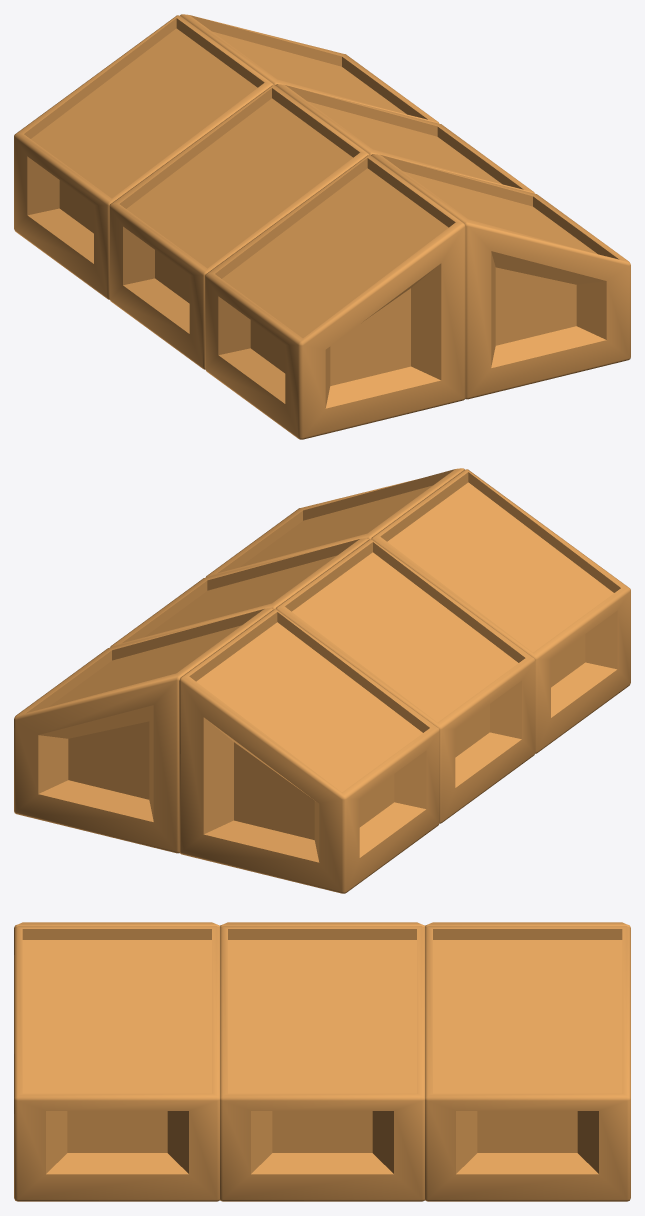
Rendered from RepartoFrutta.fbx.
3 views of the same model, one above another, from view 1: azimuth 30°, elevation 25°; view 2: azimuth 150°, elevation 25°; view 3: azimuth 270°, elevation 25° (orthographic). The views are drawn at different scales.
Parts seen in each view (by area): view 1: RepartoFrutta; view 2: RepartoFrutta; view 3: RepartoFrutta.
Part boxes in pixels (<box>): RepartoFrutta: <box>14,14,630,439</box>; RepartoFrutta: <box>14,468,630,893</box>; RepartoFrutta: <box>14,922,630,1201</box>.
Bounding box in the file's own units: 291 × 149 × 436.
